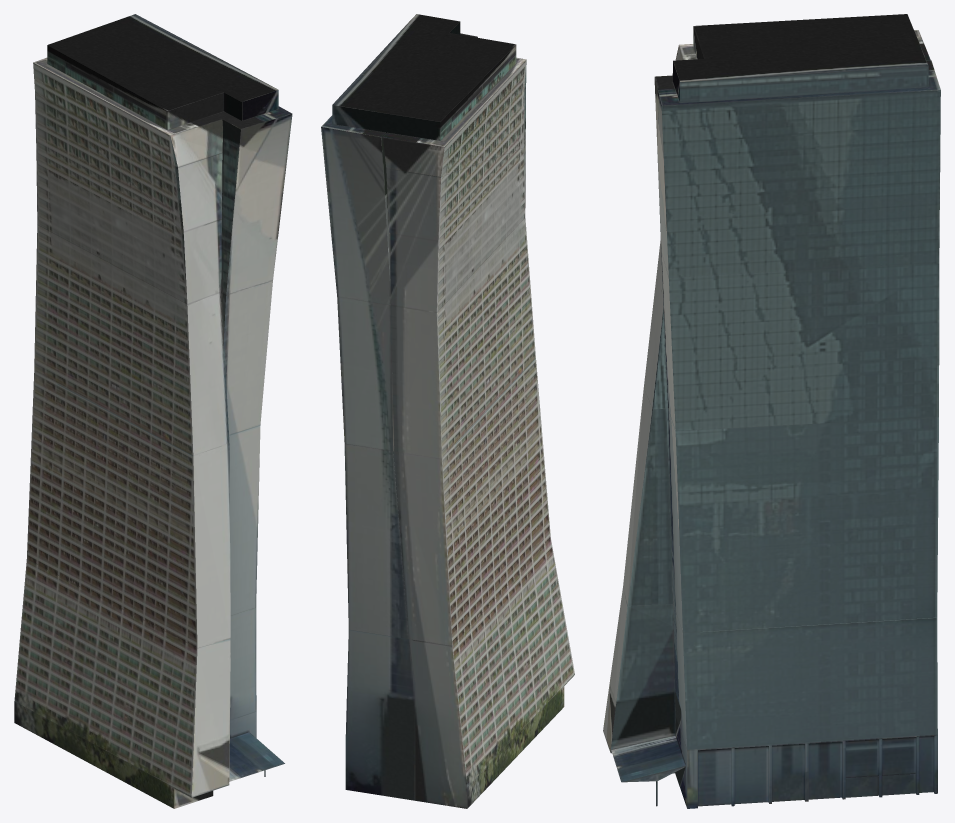
3 views of the same model, side by side, from view 1: azimuth 30°, elevation 25°; view 2: azimuth 150°, elevation 25°; view 3: azimuth 270°, elevation 25° (orthographic). The views are drawn at different scales.
Visible parts, largest first — view 1: 5_0.glb; view 2: 5_0.glb; view 3: 5_0.glb.
Boxes of the visible parts, x1=… form: 5_0.glb: x1=14, y1=14, x2=292, y2=808; 5_0.glb: x1=321, y1=14, x2=574, y2=808; 5_0.glb: x1=603, y1=14, x2=940, y2=808.
Bounding box in the file's own units: 46.41 × 183 × 76.19.
1 material, 1 textured.
